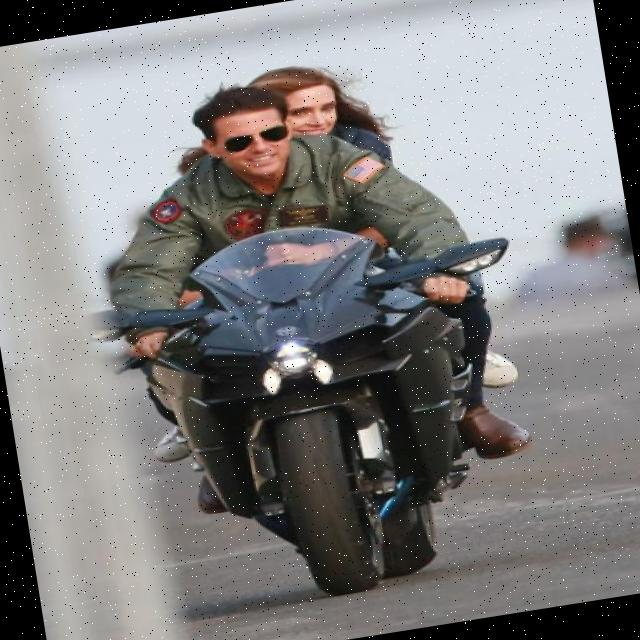No helmet: (187, 88, 299, 187)
